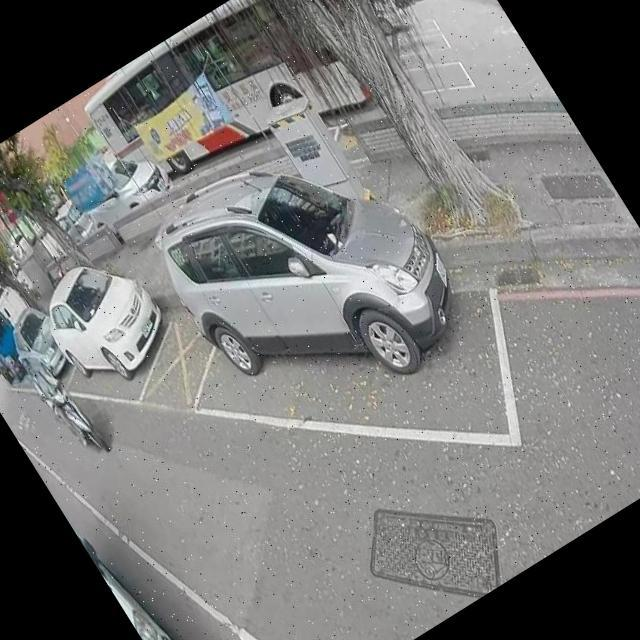person: (14, 338, 106, 458)
